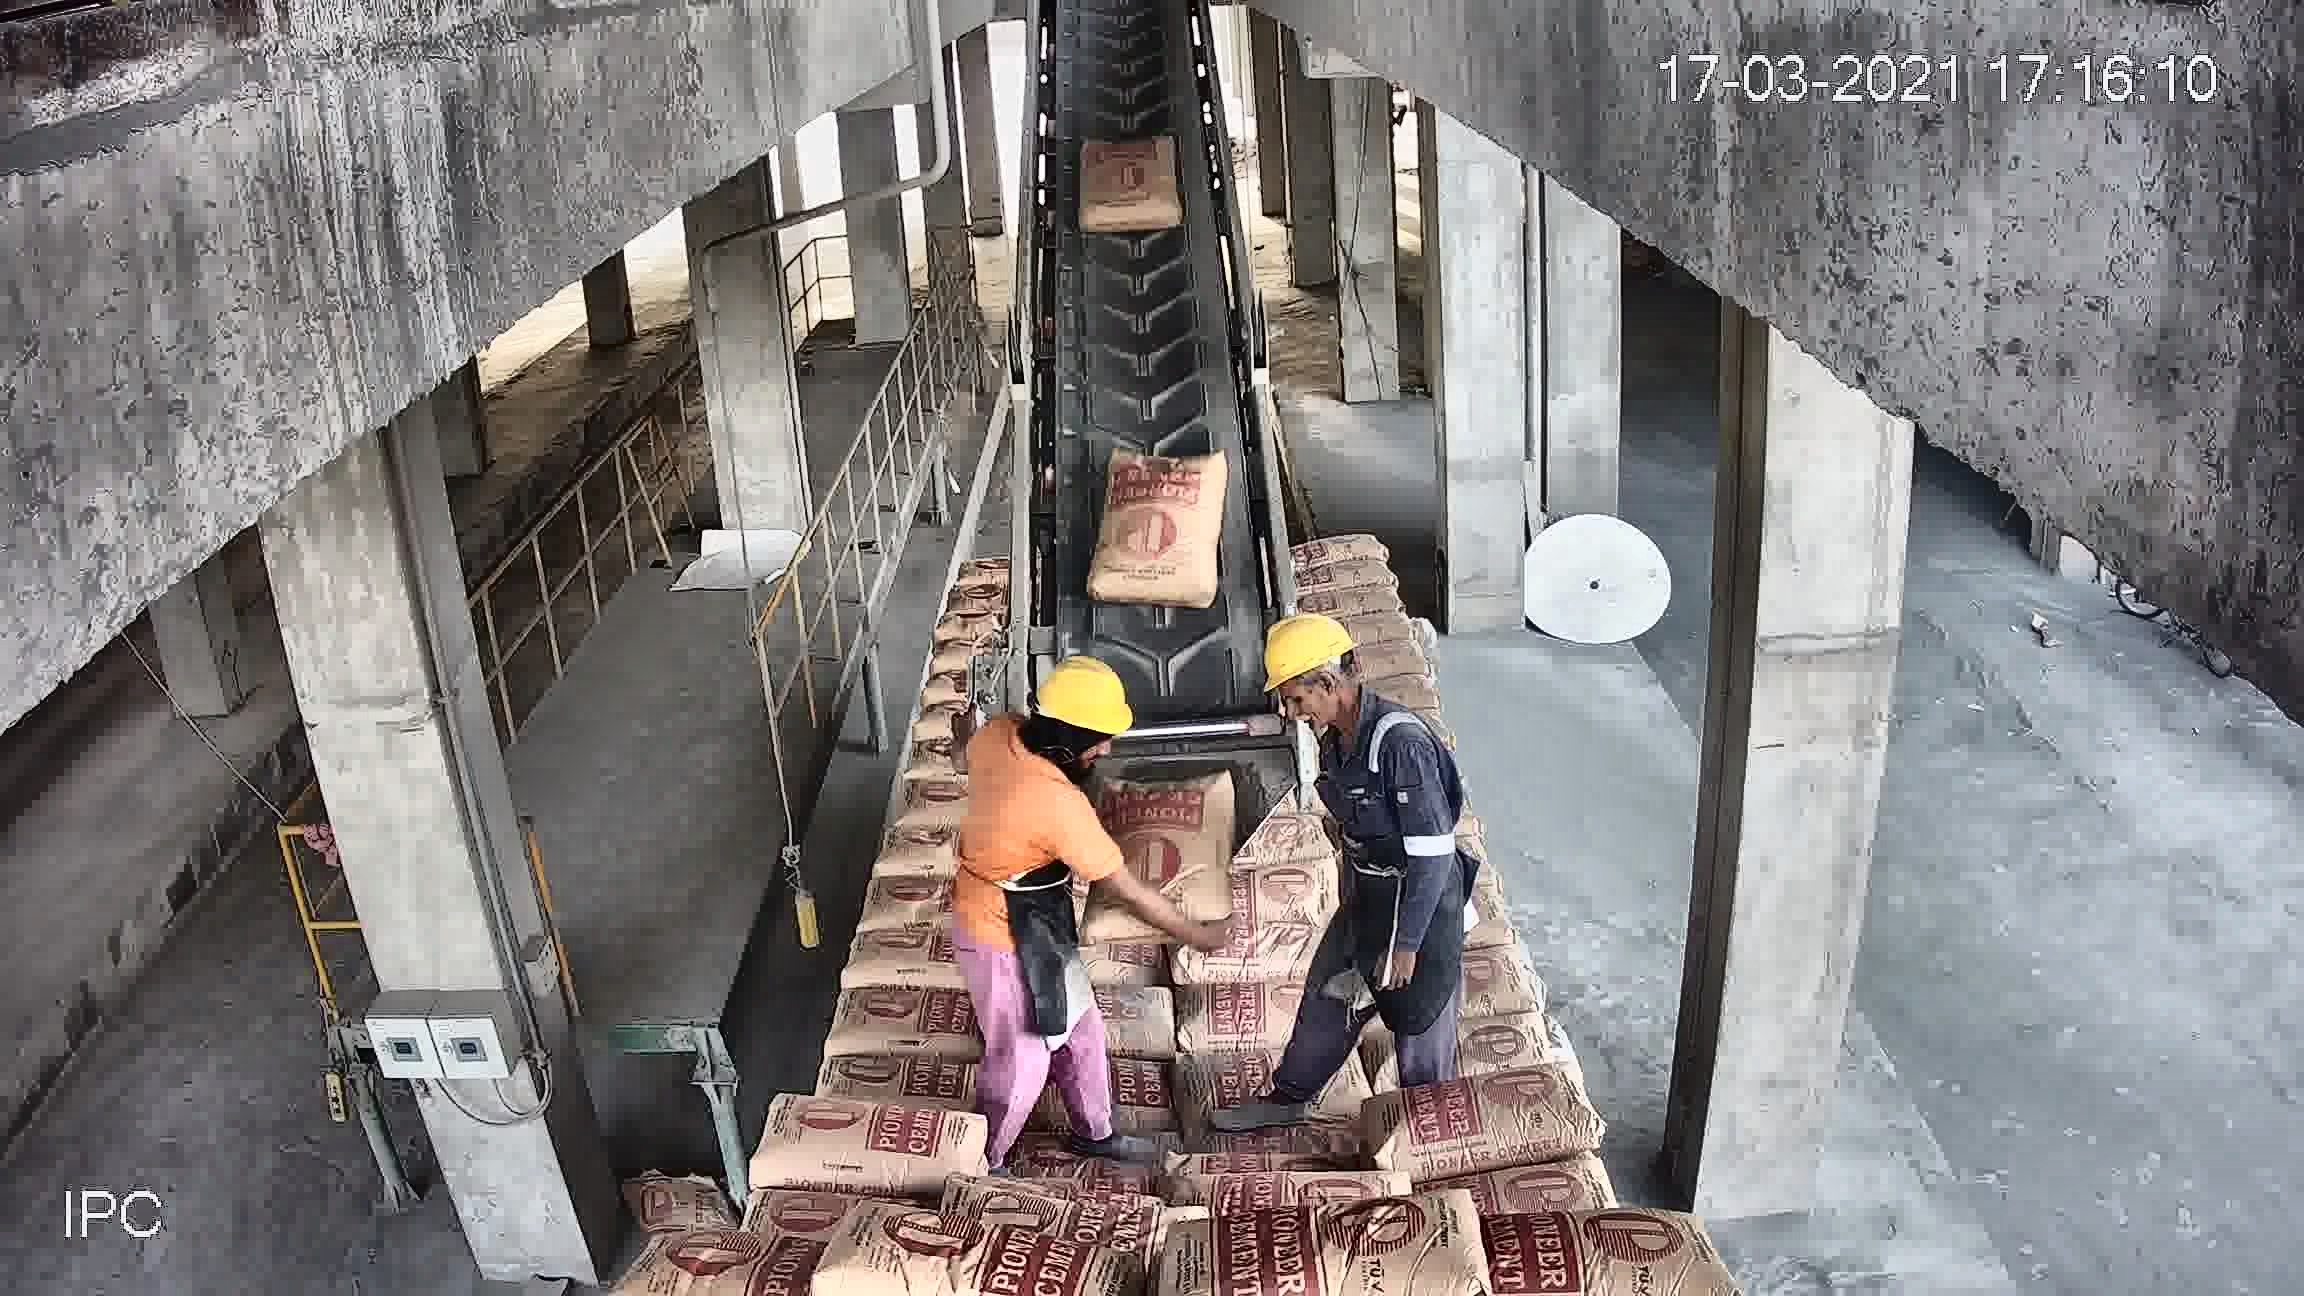bag: (1089, 771, 1239, 942), (1086, 446, 1226, 612), (1074, 131, 1192, 229)
bag_h: (1188, 1177, 1529, 1294), (1355, 1074, 1597, 1180), (802, 1218, 1127, 1294), (753, 1098, 999, 1195), (1446, 1207, 1700, 1296), (1049, 1060, 1206, 1155), (635, 1230, 843, 1296), (820, 989, 984, 1060), (824, 1038, 984, 1111), (1165, 986, 1312, 1060), (1166, 919, 1313, 991), (839, 921, 956, 999), (1285, 527, 1397, 568), (1294, 562, 1396, 600)
belt: (1006, 33, 1302, 886)
